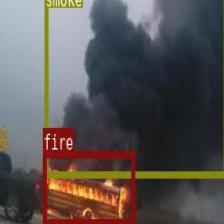fire: (42, 150, 134, 224)
smoke: (44, 0, 224, 176)
